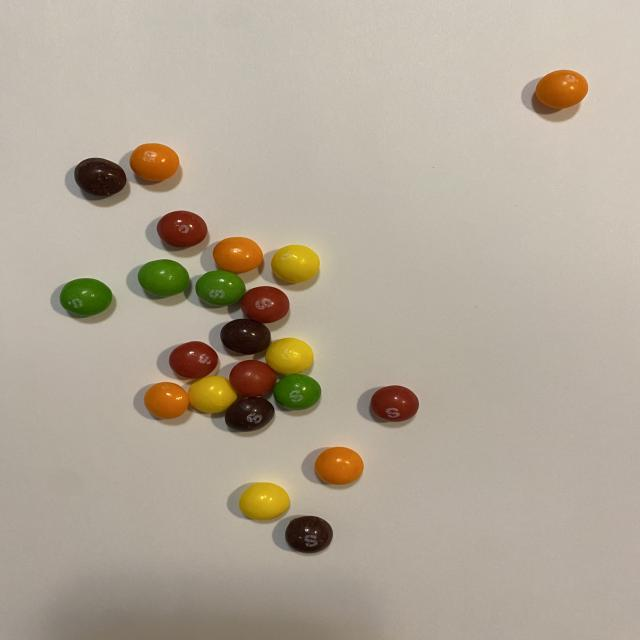smartie: (536, 69, 589, 108), (58, 278, 111, 316), (73, 157, 125, 195), (238, 483, 290, 521), (137, 259, 189, 296), (168, 341, 218, 379), (156, 210, 207, 247), (314, 447, 363, 485), (129, 143, 179, 180), (187, 376, 237, 413), (271, 245, 319, 283), (264, 338, 313, 375), (220, 319, 270, 355), (212, 237, 262, 273), (195, 270, 245, 306), (241, 286, 289, 323), (272, 374, 321, 410), (370, 386, 419, 422), (224, 397, 274, 432), (285, 517, 332, 554), (229, 360, 276, 397), (143, 382, 188, 419)
